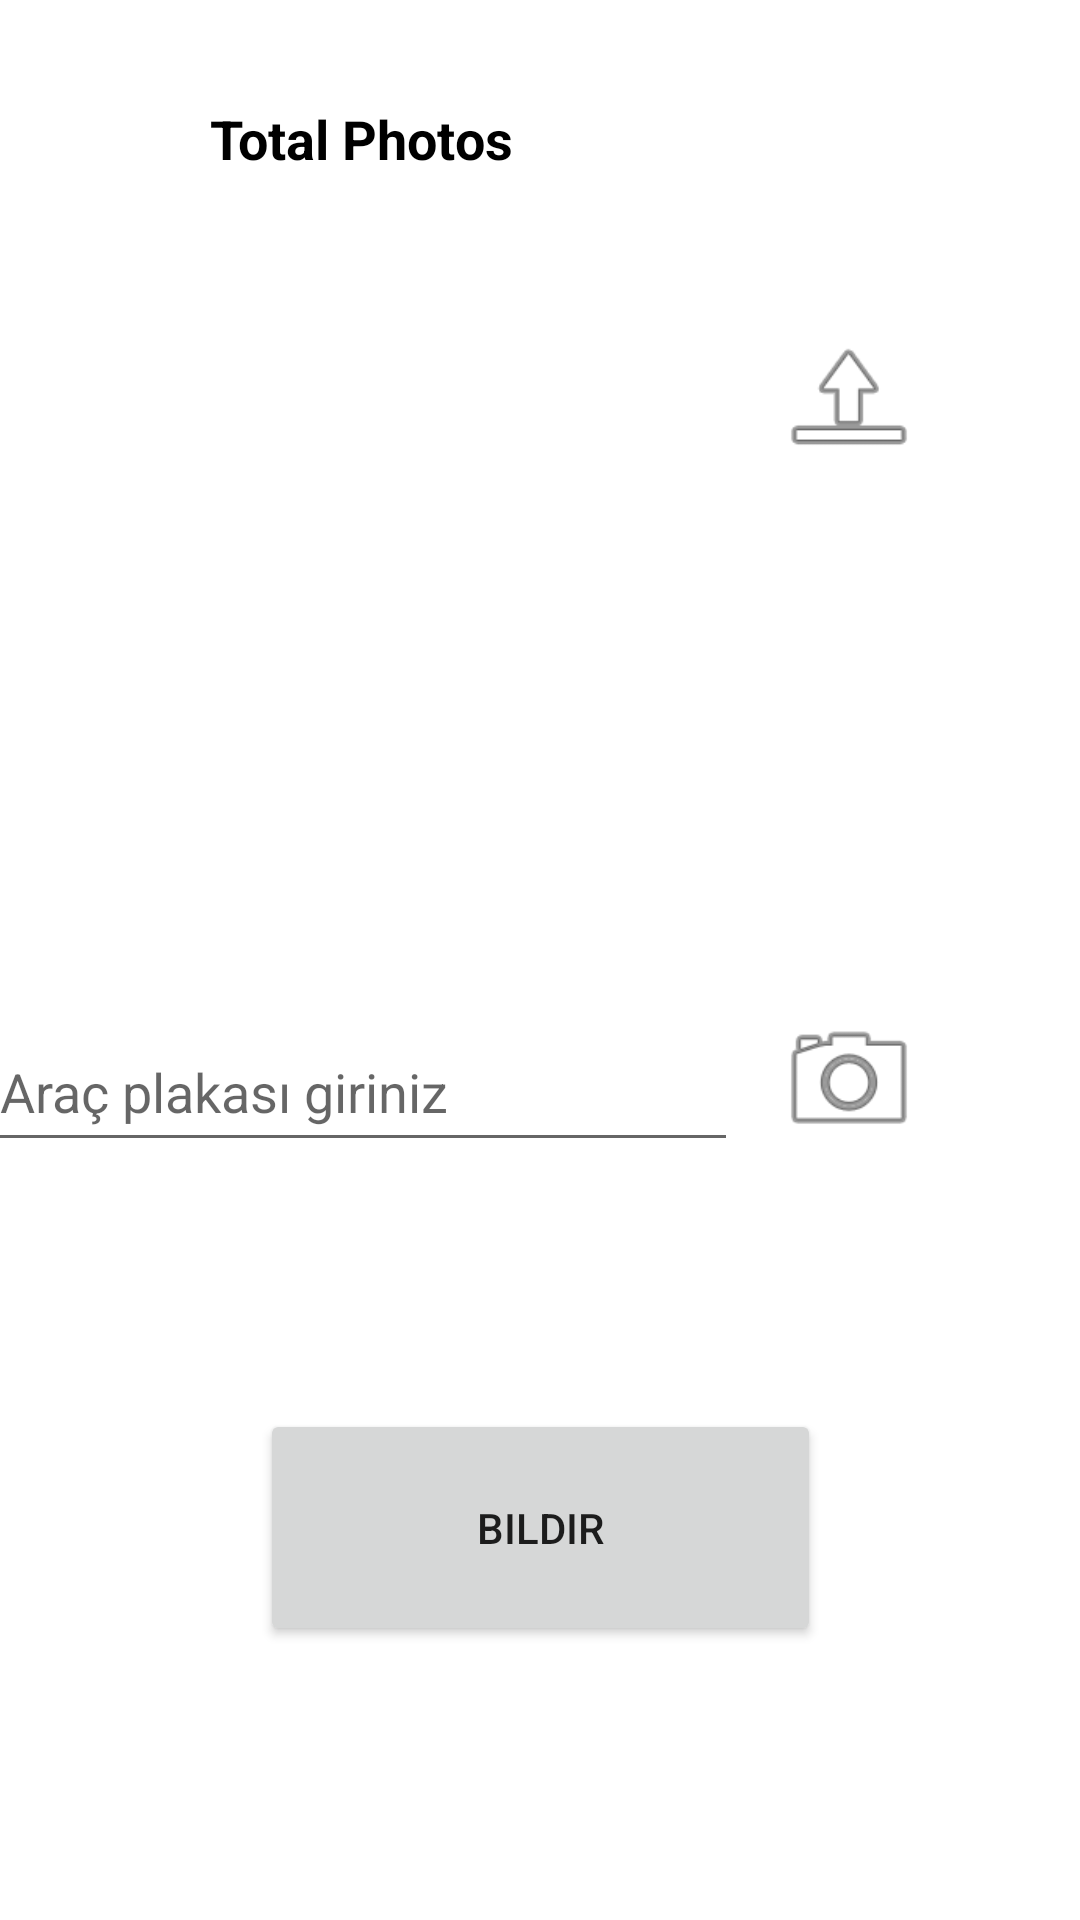

Where icons sit on this 1080x1920 app screen, as bbox=[x1, y1, x2, y2]:
camera: bbox=[791, 1031, 907, 1124]
upload: bbox=[791, 349, 907, 445]
